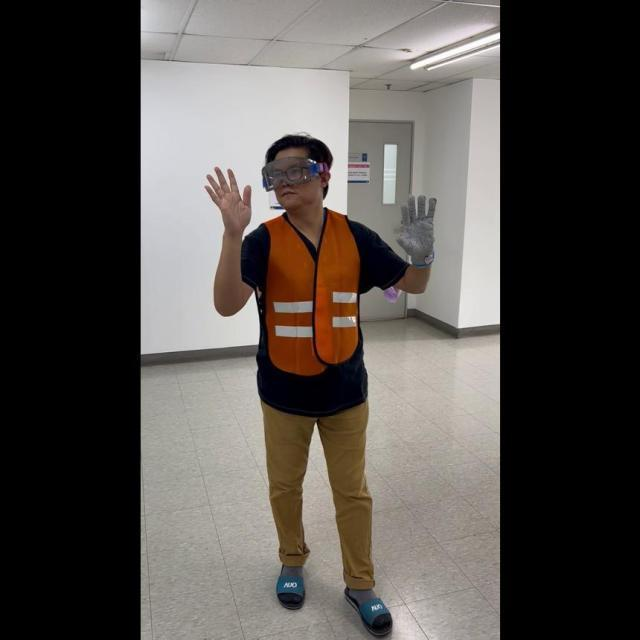bare_hand: (202, 159, 253, 234)
gloved_hand: (392, 190, 438, 264)
